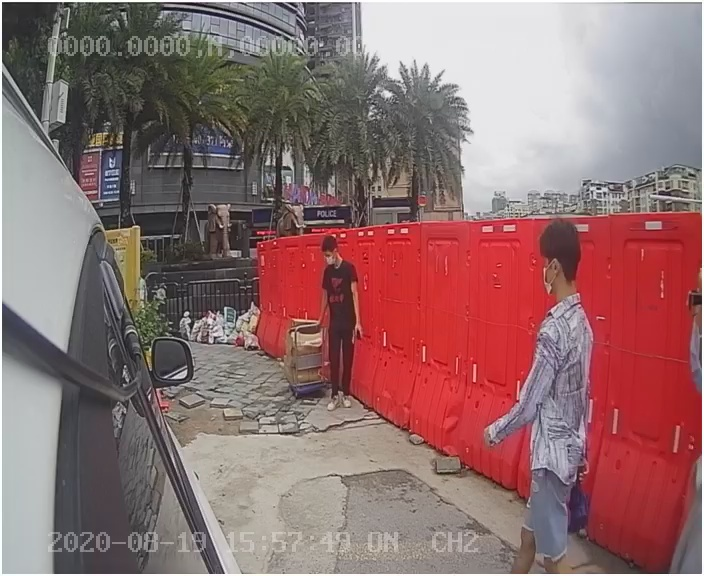person: (474, 221, 618, 568), (310, 231, 377, 414)
